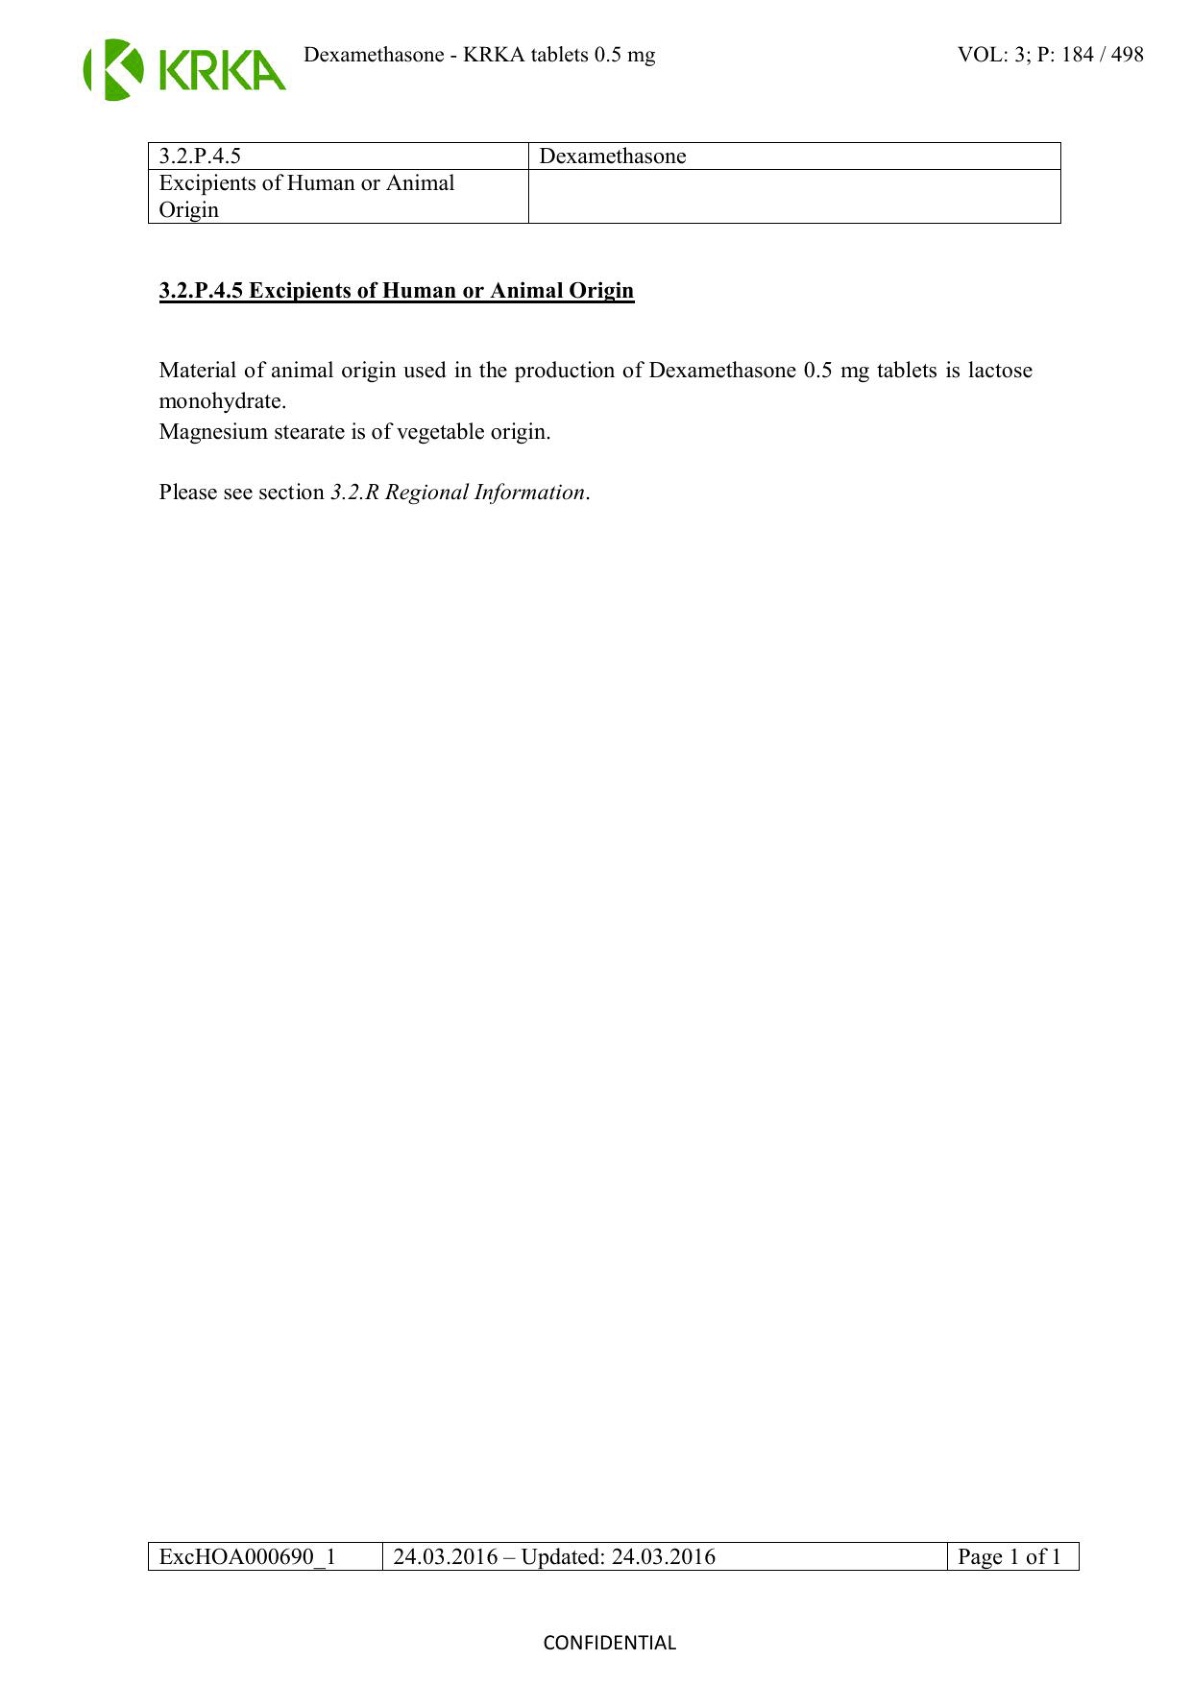full_lined: (147, 141, 1062, 224), (147, 1542, 1080, 1571)
